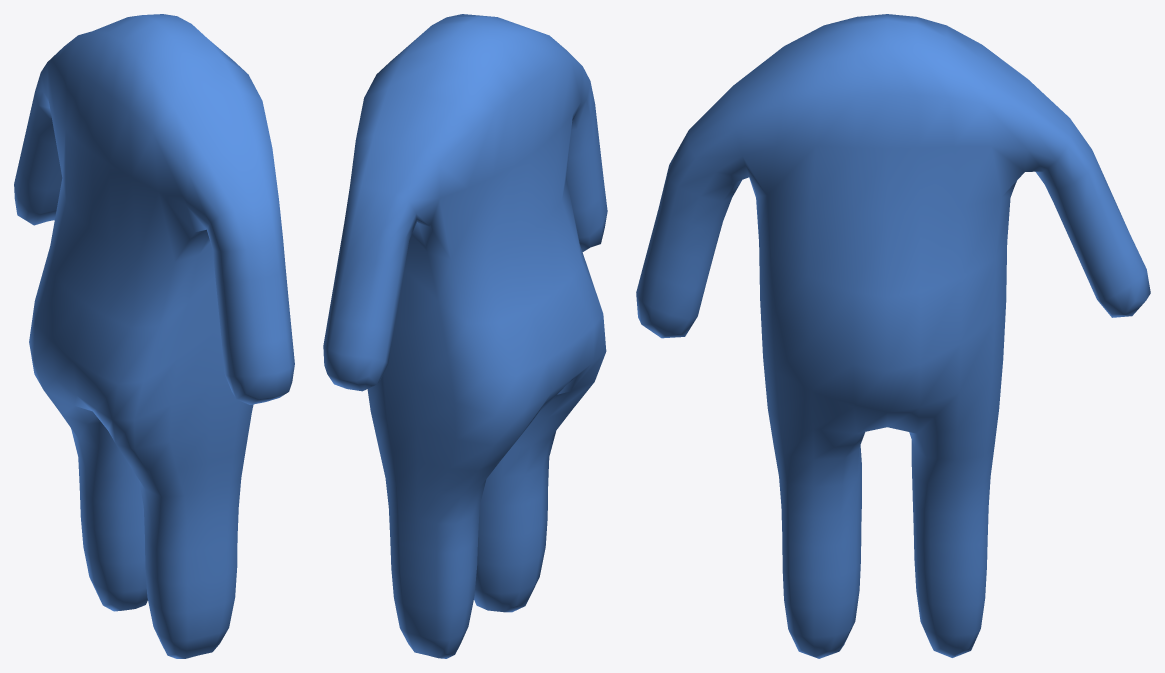
Rendered from body.obj.
3 views of the same model, side by side, from view 1: azimuth 30°, elevation 25°; view 2: azimuth 150°, elevation 25°; view 3: azimuth 270°, elevation 25° (orthographic). The views are drawn at different scales.
Parts seen in each view (by area): view 1: Body; view 2: Body; view 3: Body.
Boxes of the visible parts, box(x1,y1,x2,y2) form: Body: box(14, 14, 294, 658); Body: box(323, 14, 607, 658); Body: box(636, 14, 1150, 658).
Bounding box in the file's own units: 0.3524 × 1.02 × 0.7495.
